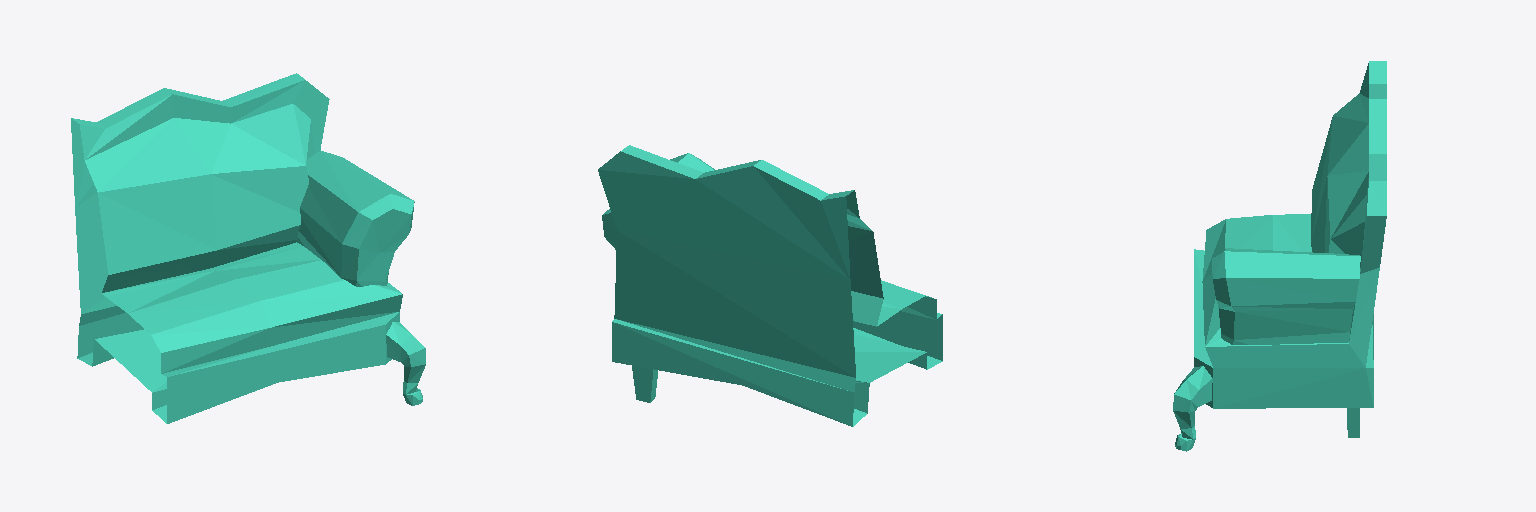
File: sofa01.obj
3 renders of one model, left to right at view 1: azimuth 30°, elevation 25°; view 2: azimuth 150°, elevation 25°; view 3: azimuth 270°, elevation 25°, orthographic.
Parts seen in each view (by area): view 1: ???_??001; view 2: ???_??001; view 3: ???_??001.
Boxes of the visible parts, x1=… form: ???_??001: x1=71, y1=73, x2=425, y2=423; ???_??001: x1=598, y1=145, x2=942, y2=426; ???_??001: x1=1173, y1=61, x2=1386, y2=451.
Size of the model in its own units: 45.89 by 46.11 by 32.24.